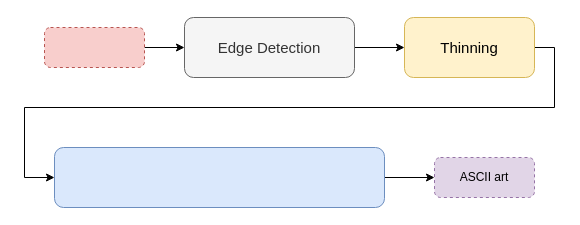
Some shapes in this 580 by 225 pixel diagram are drawn without their labels. The shapes that lost their labels are listed below. From the top down, each one's centre as x and y in pixels, then its label:
[94,47]: Image
[219,177]: Sliding window + Convolutional Neural Network
